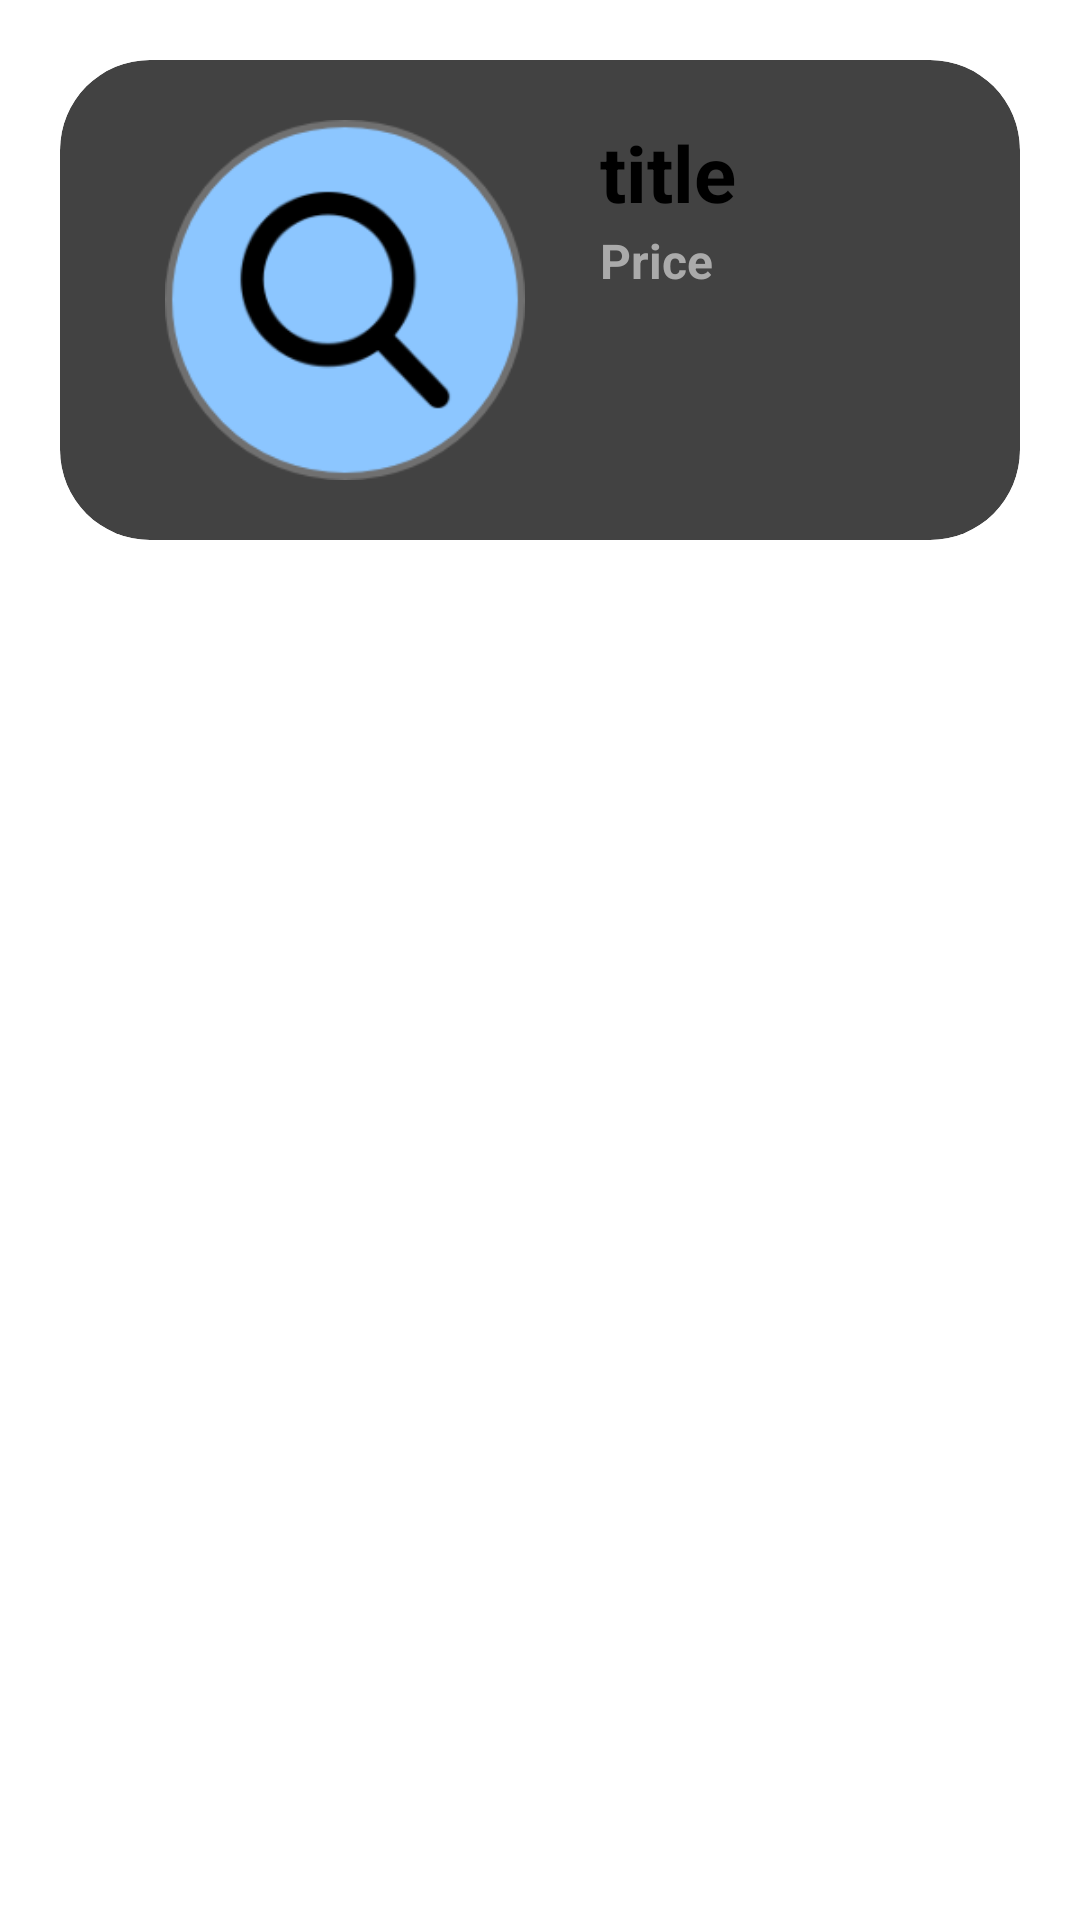

Where icons sit on this 1080*1920 app screen, as box(x1, y1, x2, y2):
search: box(165, 120, 525, 480)
